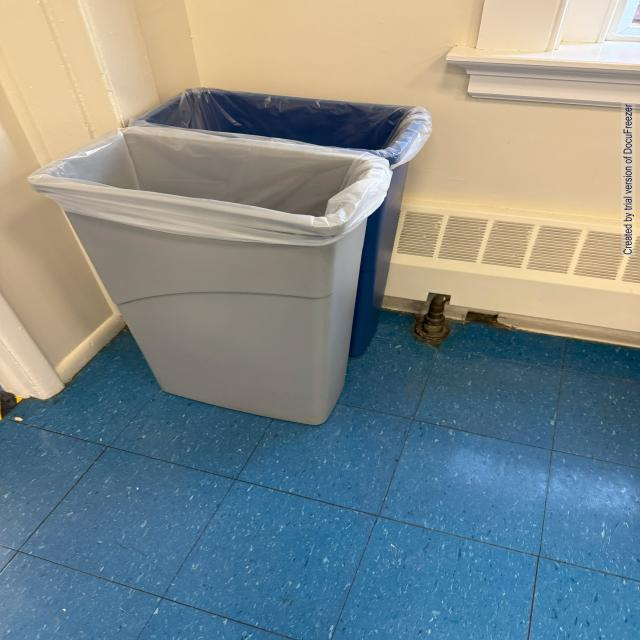Trash bin: (24, 123, 366, 430)
